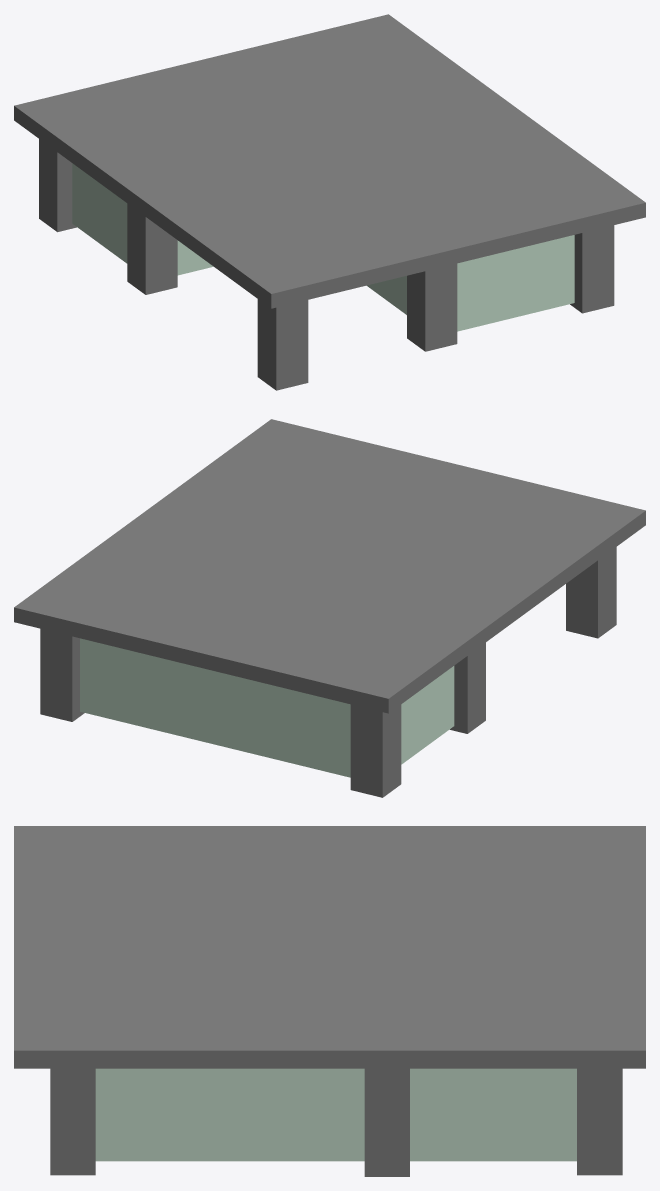
Rendered from parrlaxBuilding.fbx.
3 renders of one model, top to bottom at view 1: azimuth 30°, elevation 25°; view 2: azimuth 150°, elevation 25°; view 3: azimuth 270°, elevation 25°, orthographic. The views are drawn at different scales.
Parts seen in each view (by area): view 1: Cube.002, Cube.003, Cube; view 2: Cube.002, Cube, Cube.003; view 3: Cube.002, Cube, Cube.003.
Boxes of the visible parts, x1,y1,x2,y2 form: Cube.002: [14, 14, 645, 308]; Cube.003: [39, 139, 614, 390]; Cube: [72, 163, 574, 331]; Cube.002: [14, 419, 645, 713]; Cube: [80, 638, 454, 777]; Cube.003: [40, 547, 616, 797]; Cube.002: [14, 826, 645, 1068]; Cube: [95, 1068, 576, 1161]; Cube.003: [50, 1068, 622, 1176].
Bounding box in the file's own units: 479 × 134 × 570.
